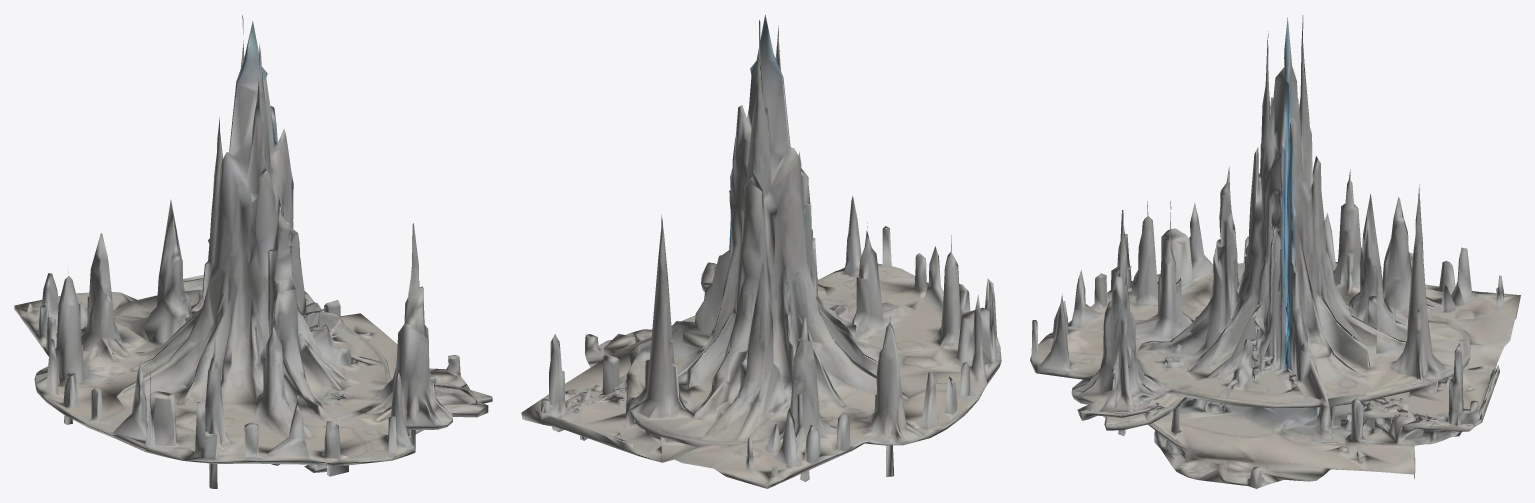
File: tower.glb
3 views of the same model, side by side, from view 1: azimuth 30°, elevation 25°; view 2: azimuth 150°, elevation 25°; view 3: azimuth 270°, elevation 25° (orthographic). The views are drawn at different scales.
Parts seen in each view (by area): view 1: tripo_node_3f39ff8a-48a8-406a-81cb-aabc02b1392a; view 2: tripo_node_3f39ff8a-48a8-406a-81cb-aabc02b1392a; view 3: tripo_node_3f39ff8a-48a8-406a-81cb-aabc02b1392a.
Boxes of the visible parts, box(x1,y1,x2,y2) form: tripo_node_3f39ff8a-48a8-406a-81cb-aabc02b1392a: box(14, 15, 492, 488); tripo_node_3f39ff8a-48a8-406a-81cb-aabc02b1392a: box(521, 15, 1001, 488); tripo_node_3f39ff8a-48a8-406a-81cb-aabc02b1392a: box(1030, 15, 1520, 488).
Bounding box in the file's own units: 1.02 × 0.9963 × 1.15.
Materials: 1 (1 with a texture image).
